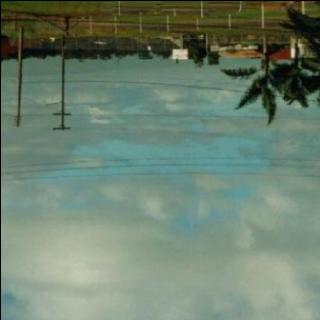Stratocumulus: (0, 84, 320, 320)
